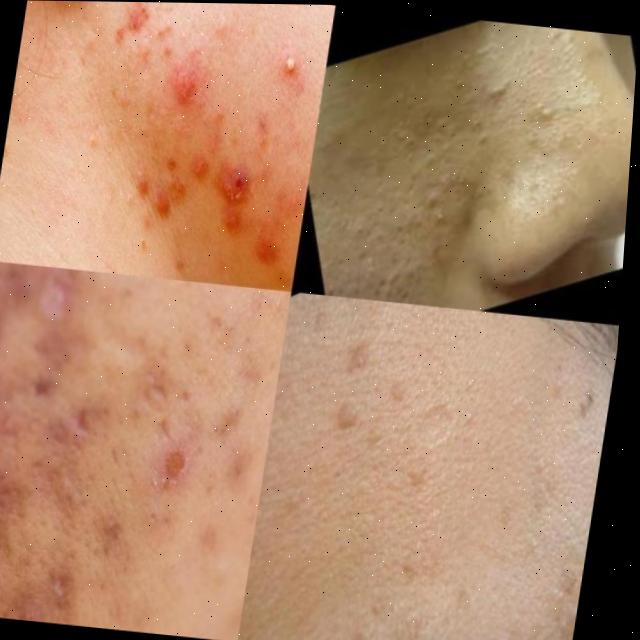Acne: (0, 322, 254, 639), (277, 351, 540, 572), (108, 2, 285, 201), (422, 67, 558, 222)
